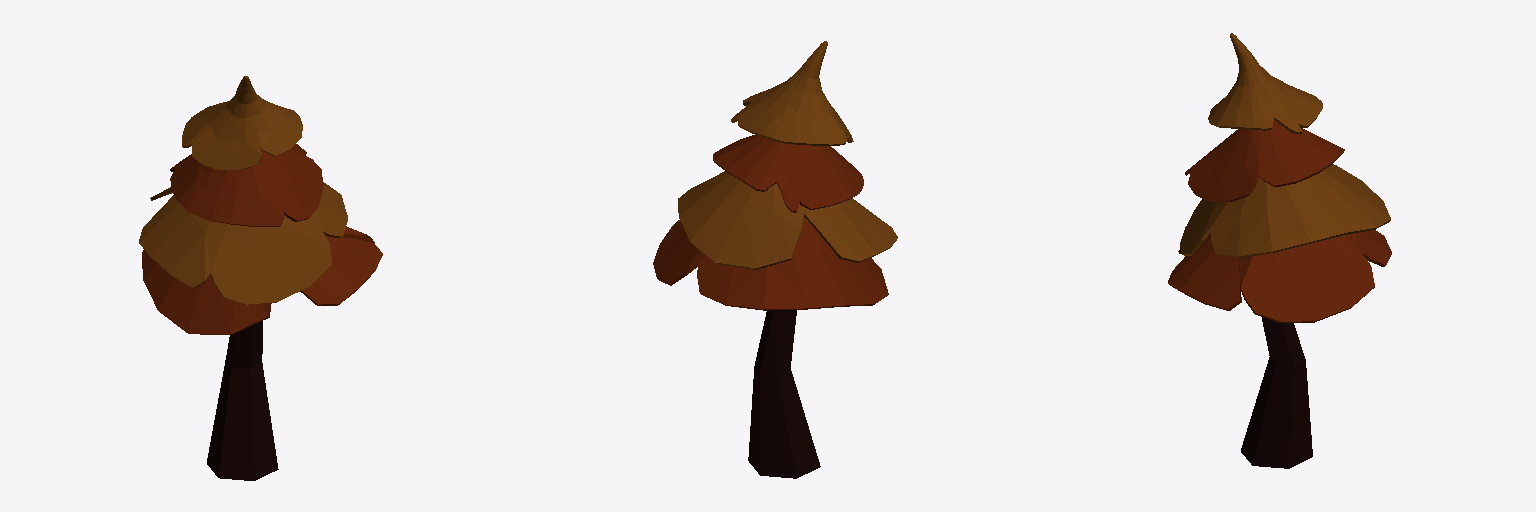
The model's file is PineTree_Autumn_5_Cylinder.obj.
3 views of the same model, side by side, from view 1: azimuth 30°, elevation 25°; view 2: azimuth 150°, elevation 25°; view 3: azimuth 270°, elevation 25° (orthographic).
Parts seen in each view (by area): view 1: PineTree_Autumn_5_Cylinder.061; view 2: PineTree_Autumn_5_Cylinder.061; view 3: PineTree_Autumn_5_Cylinder.061.
Part boxes in pixels (left/top/right/bottom): PineTree_Autumn_5_Cylinder.061: left=139, top=76, right=382, bottom=480; PineTree_Autumn_5_Cylinder.061: left=653, top=41, right=897, bottom=478; PineTree_Autumn_5_Cylinder.061: left=1168, top=33, right=1391, bottom=468.
Bounding box in the file's own units: 1.47 × 2.69 × 1.34.